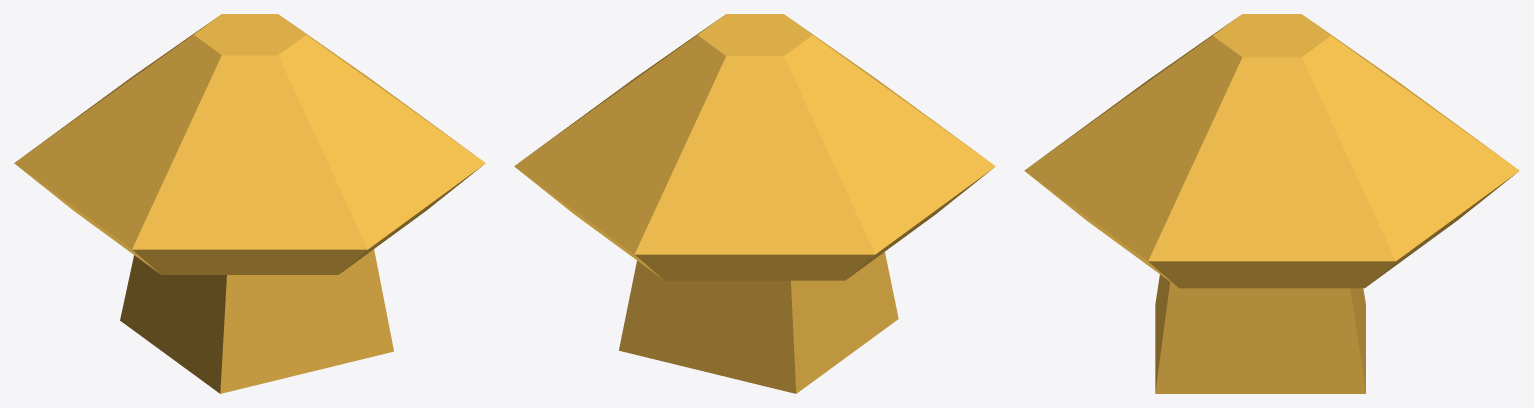
Rendered from kenney_nature-kit__mushroom_tan__meadow.fbx.
3 renders of one model, left to right at view 1: azimuth 30°, elevation 25°; view 2: azimuth 150°, elevation 25°; view 3: azimuth 270°, elevation 25°, orthographic. The views are drawn at different scales.
Visible parts, largest first — view 1: kenney_nature-kit__mushroom_tan__meadow_colortan_flower, kenney_nature-kit__mushroom_tan__meadow_defaultmat_flower; view 2: kenney_nature-kit__mushroom_tan__meadow_colortan_flower, kenney_nature-kit__mushroom_tan__meadow_defaultmat_flower; view 3: kenney_nature-kit__mushroom_tan__meadow_colortan_flower, kenney_nature-kit__mushroom_tan__meadow_defaultmat_flower.
Boxes of the visible parts, x1,y1,x2,y2 form: kenney_nature-kit__mushroom_tan__meadow_colortan_flower: [14, 14, 485, 249]; kenney_nature-kit__mushroom_tan__meadow_defaultmat_flower: [18, 166, 481, 393]; kenney_nature-kit__mushroom_tan__meadow_colortan_flower: [514, 14, 995, 254]; kenney_nature-kit__mushroom_tan__meadow_defaultmat_flower: [518, 169, 991, 393]; kenney_nature-kit__mushroom_tan__meadow_colortan_flower: [1024, 14, 1519, 261]; kenney_nature-kit__mushroom_tan__meadow_defaultmat_flower: [1026, 172, 1517, 393].
Size of the model in its own units: 0.6834 by 0.5496 by 0.7892.
Materials: 1 (1 with a texture image).
